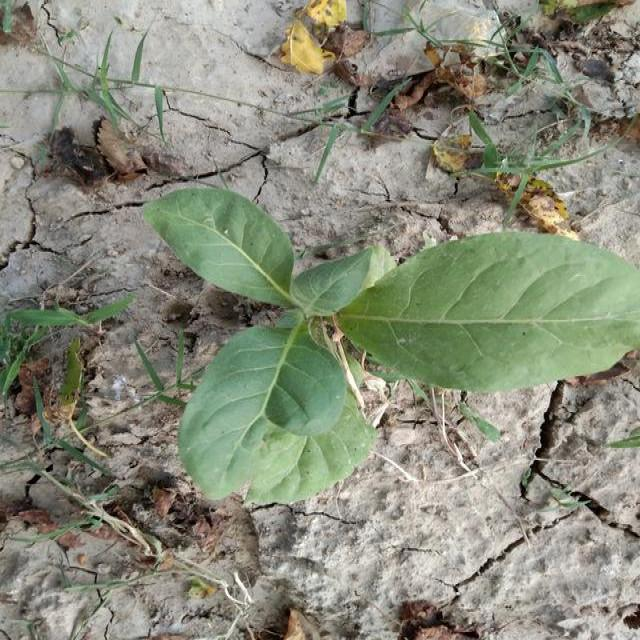crop: (148, 182, 640, 504)
